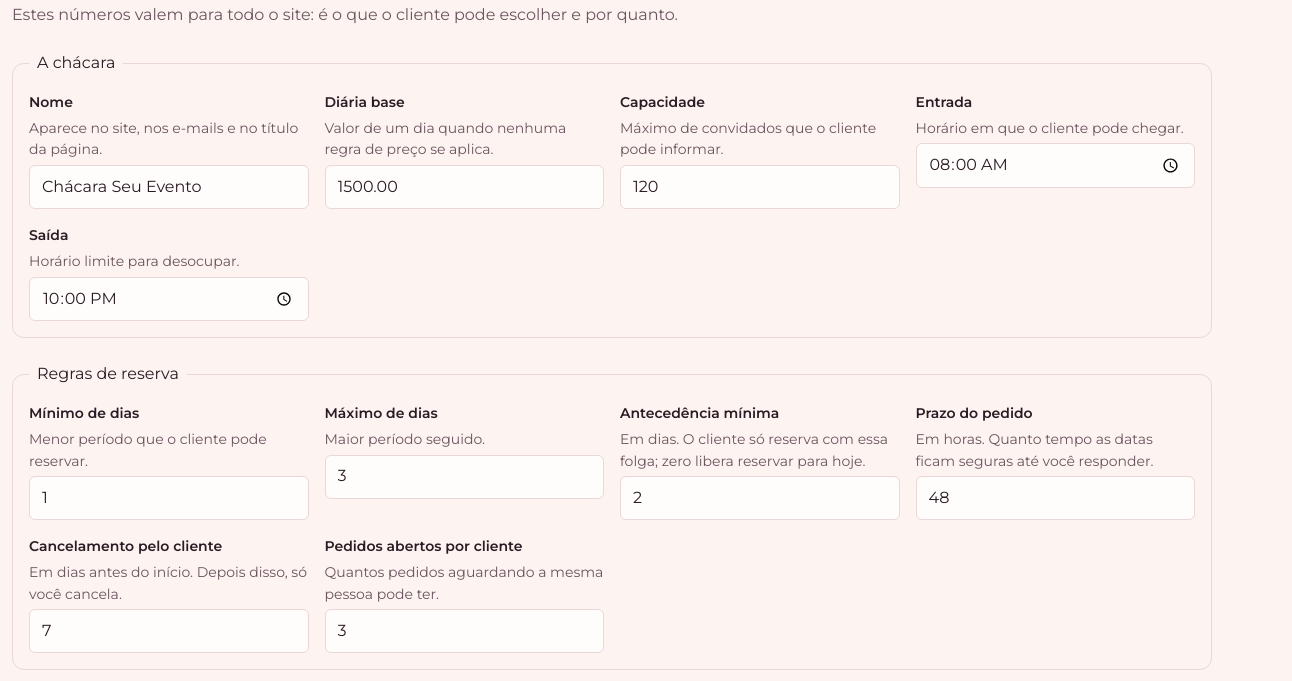
Test: SettingsPage › o botão de salvar começa inativo e liga com a primeira mudança
Step 1. Type "!" into the field labelled "Nome" → (169, 187), box x1=29 y1=165 x2=308 y2=209
(page scrolled)
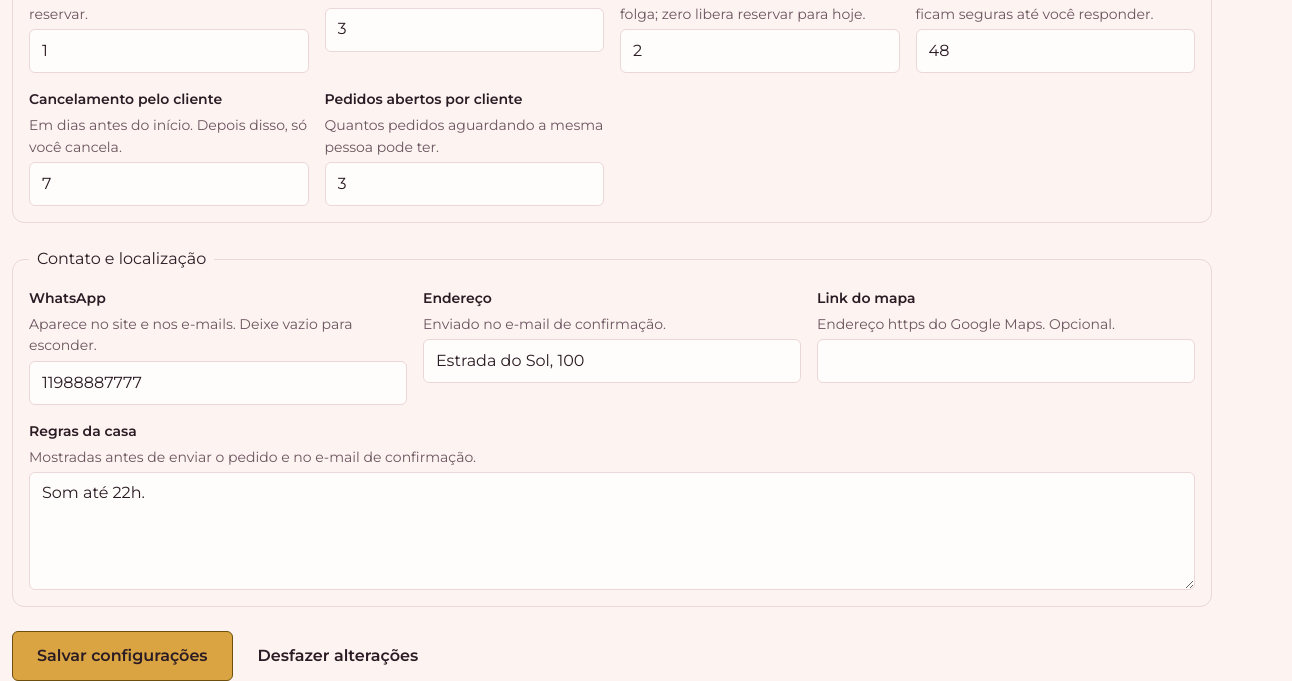
Expected: the button "Salvar configurações" is enabled, x1=12 y1=631 x2=233 y2=680
